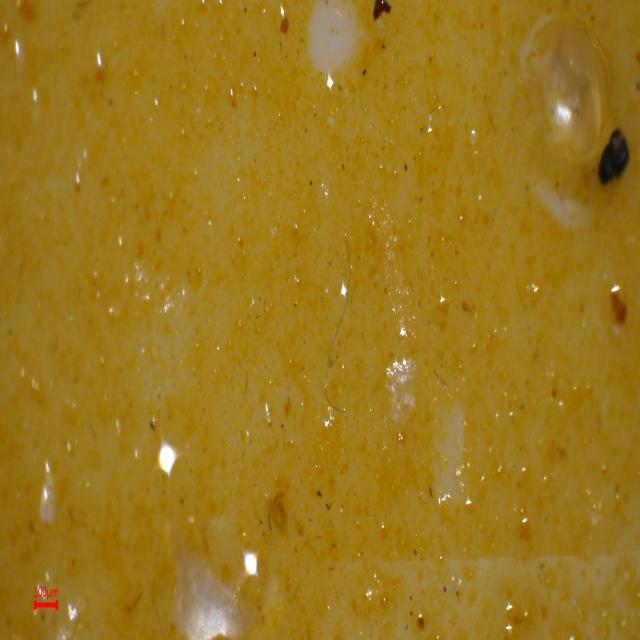fibers: (324, 232, 353, 413)
